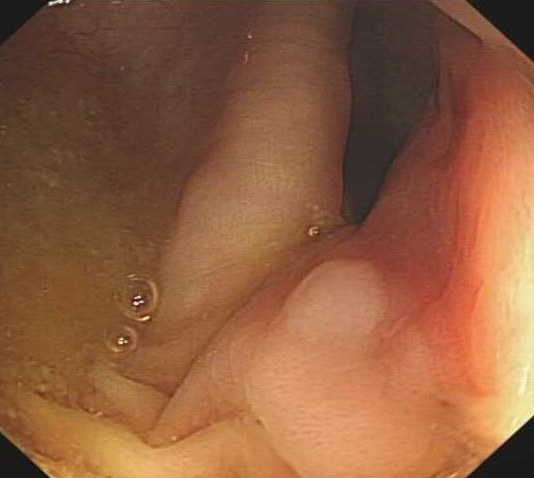others: (248, 253, 445, 478)
